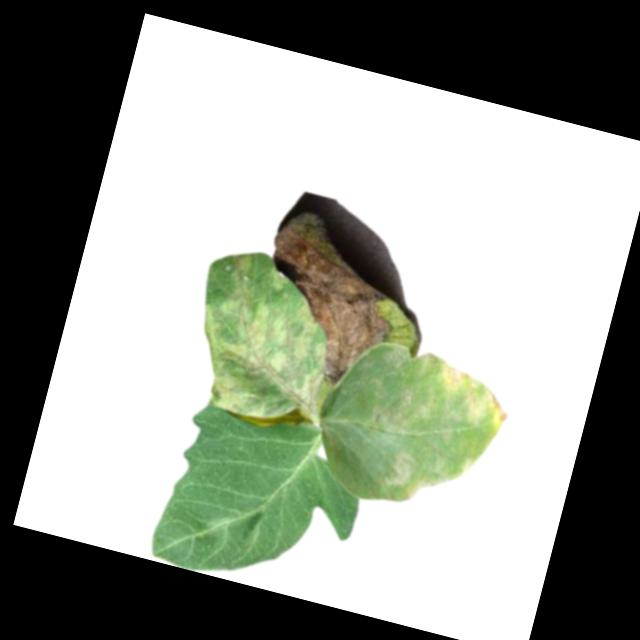Late_blight: (176, 239, 349, 432), (242, 205, 414, 398), (427, 360, 515, 436), (380, 447, 450, 509), (364, 403, 410, 438)
